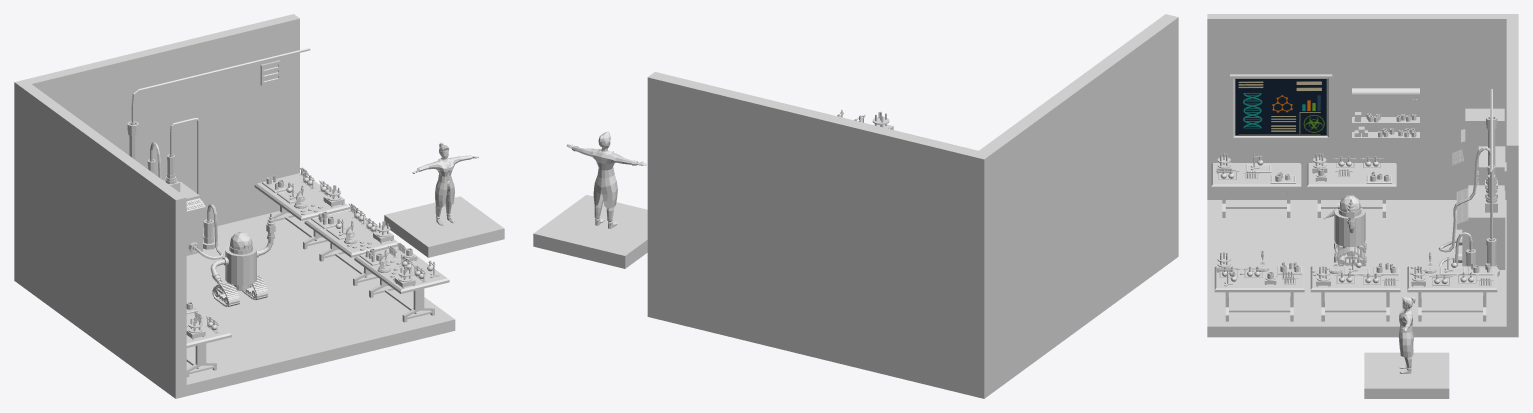
File: Lab.fbx
The picture shows the model from 3 angles, left to right: view 1: azimuth 30°, elevation 25°; view 2: azimuth 150°, elevation 25°; view 3: azimuth 270°, elevation 25°; orthographic projection. The views are drawn at different scales.
Parts seen in each view (by area): view 1: SM_Room, SM_Present_001, Cube.017, Cube.015, Cube.013, Circle.059, Cube.002, SM_Character_001_02, Cube.014, Cube.006, Cube.129, BezierCurve (+5 smaller); view 2: SM_Room, SM_Present_001, SM_Character_001_02, SM_Character_001; view 3: SM_Room, Cube.010, SM_Present_001, Cube.002, Cube, Cube.011, Cube.013, Cube.006, Cube.017, Cube.015, Cube.007, Circle.059 (+12 smaller).
Boxes of the visible parts, x1,y1,x2,y2 form: SM_Room: [14, 14, 455, 398]; SM_Present_001: [384, 196, 504, 257]; Cube.017: [254, 173, 349, 220]; Cube.015: [304, 210, 399, 257]; Cube.013: [354, 246, 449, 293]; Circle.059: [225, 244, 256, 290]; Cube.002: [179, 181, 205, 255]; SM_Character_001_02: [417, 155, 471, 207]; Cube.014: [369, 279, 434, 322]; Cube.006: [186, 302, 231, 347]; Cube.129: [212, 274, 268, 307]; BezierCurve: [131, 48, 310, 123]; SM_Room: [647, 14, 1178, 398]; SM_Present_001: [533, 195, 647, 268]; SM_Character_001_02: [572, 145, 638, 208]; SM_Character_001: [566, 131, 646, 228]; SM_Room: [1207, 14, 1518, 337]; Cube.010: [1230, 74, 1332, 139]; SM_Present_001: [1364, 352, 1449, 398]; Cube.002: [1456, 185, 1505, 269]; Cube: [1452, 108, 1504, 189]; Cube.011: [1307, 163, 1396, 188]; Cube.013: [1214, 266, 1304, 292]; Cube.006: [1211, 163, 1301, 188]; Cube.017: [1407, 266, 1497, 292]; Cube.015: [1310, 266, 1400, 292]; Cube.007: [1352, 88, 1419, 102]; Circle.059: [1334, 208, 1365, 248].
Size of the model in its own units: 458 by 212 by 312.
